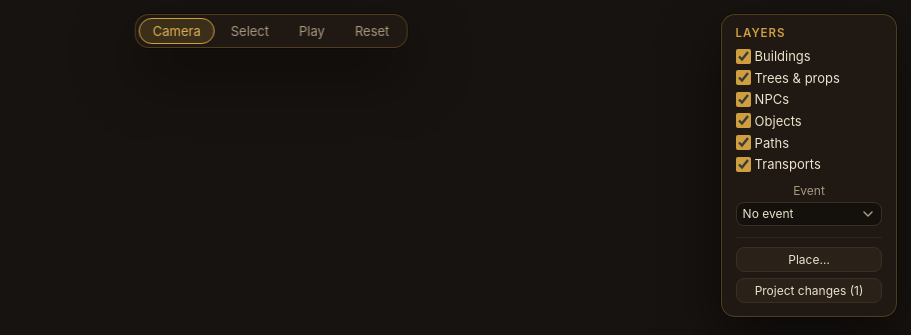
Scenario: Select mode and the selection in the 3D view › turns falloff on from its button and shows the radius the view reports
The width and height of the screenshot is (911, 335).
Click the button "Select": (250, 31) [217,18,283,44]
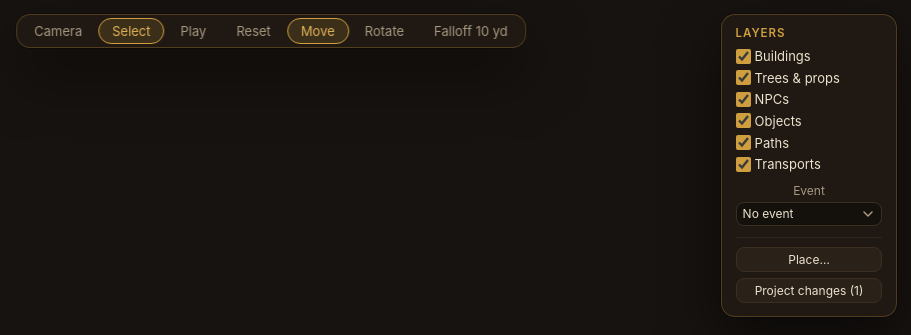
Click the button "Falloff 10 yd": (471, 31) [420,18,522,44]
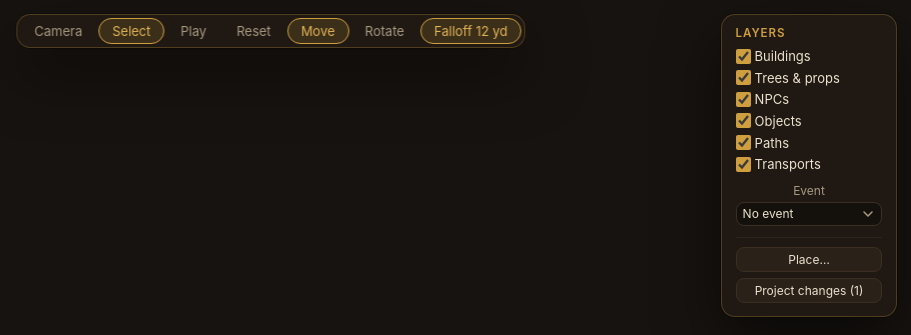
expect the button "Falloff 12 yd" is shown: met, box [420,18,522,44]
